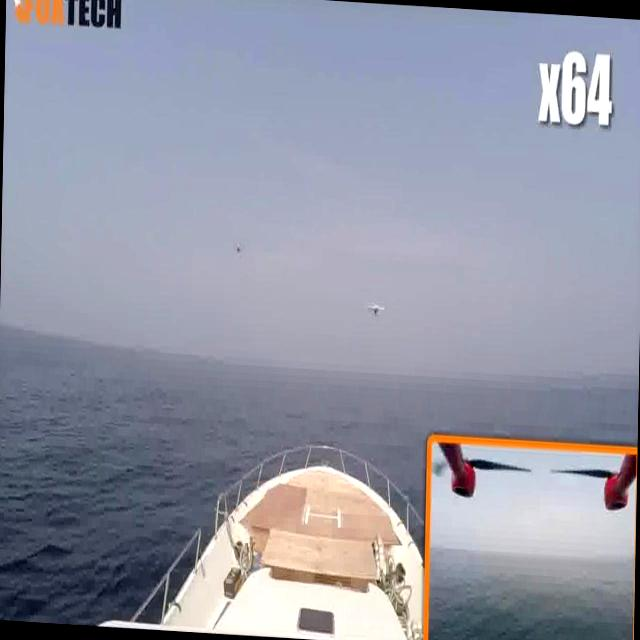drone: (364, 295, 390, 318)
